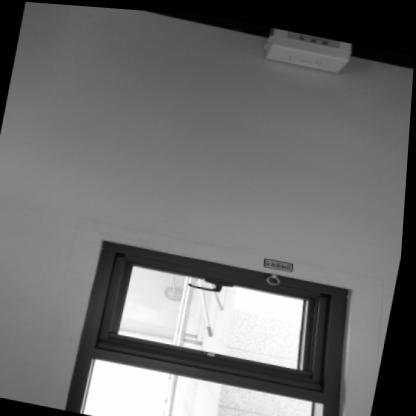DDL: (259, 21, 354, 70)
